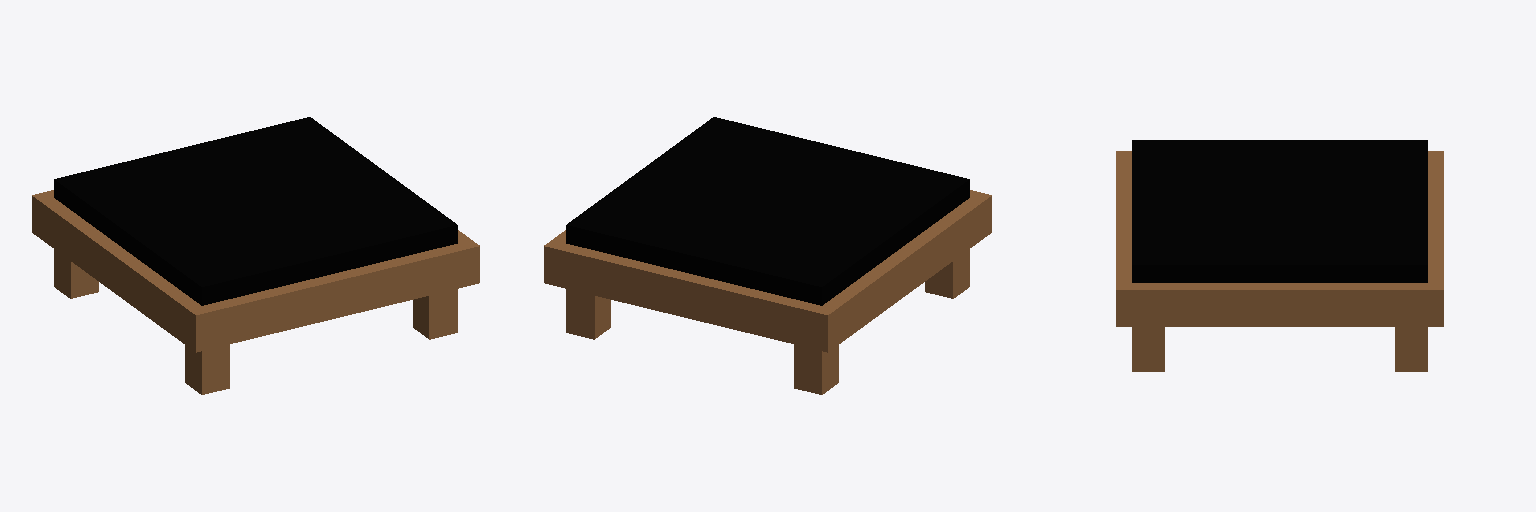
Rendered from table_low.obj.
The picture shows the model from 3 angles: view 1: azimuth 30°, elevation 25°; view 2: azimuth 150°, elevation 25°; view 3: azimuth 270°, elevation 25°; orthographic projection.
Visible parts, largest first — view 1: table_mesh_Cube.001; view 2: table_mesh_Cube.001; view 3: table_mesh_Cube.001.
Boxes of the visible parts, box(x1,y1,x2,y2) form: table_mesh_Cube.001: box(32, 117, 479, 394); table_mesh_Cube.001: box(544, 117, 991, 394); table_mesh_Cube.001: box(1116, 140, 1443, 371).
Size of the model in its own units: 1 by 0.3625 by 1.